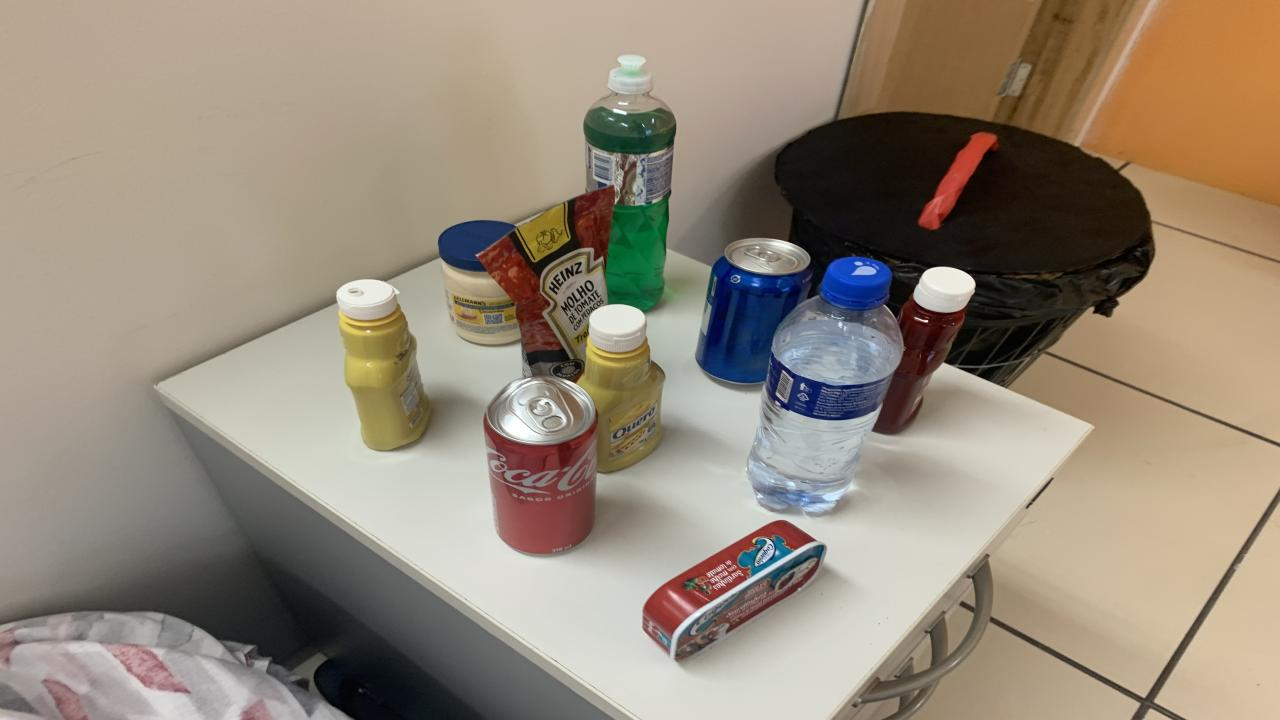Coke-Drinks: (485, 375, 598, 555)
Detergent-Cleanup_Items: (582, 54, 678, 309)
Ketchup-Pantry_Items: (872, 266, 975, 435)
Mayonnaise-Pantry_Items: (438, 219, 520, 345)
Mustard-Pantry_Items: (335, 279, 430, 450), (578, 304, 665, 472)
Tomato_Sauce-Pantry_Items: (478, 188, 615, 381)
Tonic-Drinks: (695, 238, 812, 384)
Tuna_Can-Pantry_Items: (642, 519, 828, 662)
Water_Bottle-Drinks: (748, 257, 902, 514)
